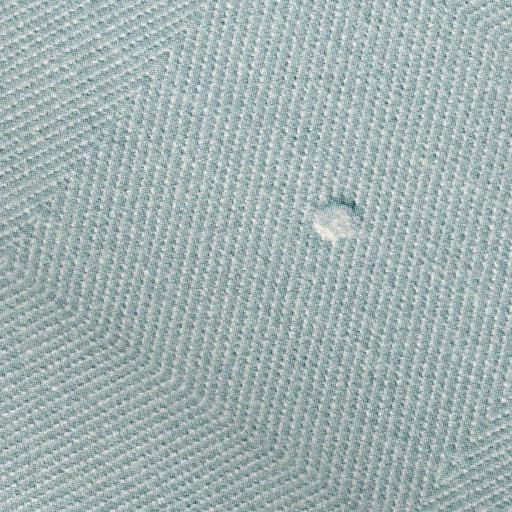knot: (302, 192, 372, 250)
